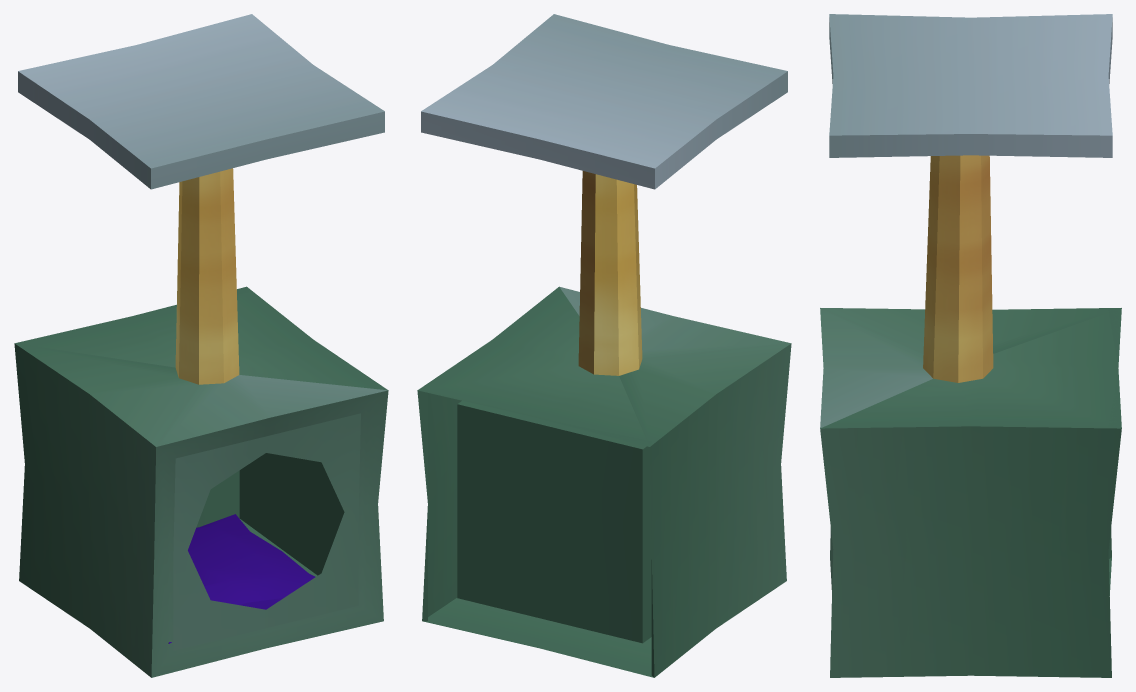
Rendered from sp_cat_scratcher_a.fbx.
3 renders of one model, left to right at view 1: azimuth 30°, elevation 25°; view 2: azimuth 150°, elevation 25°; view 3: azimuth 270°, elevation 25°, orthographic. The views are drawn at different scales.
Parts seen in each view (by area): view 1: sp_cat_scratcher_a; view 2: sp_cat_scratcher_a; view 3: sp_cat_scratcher_a.
Part boxes in pixels (box(x1,y1,x2,y2)): sp_cat_scratcher_a: box(14, 14, 388, 677); sp_cat_scratcher_a: box(417, 14, 791, 677); sp_cat_scratcher_a: box(820, 14, 1121, 677).
Bounding box in the file's own units: 60.56 × 126 × 63.49.
